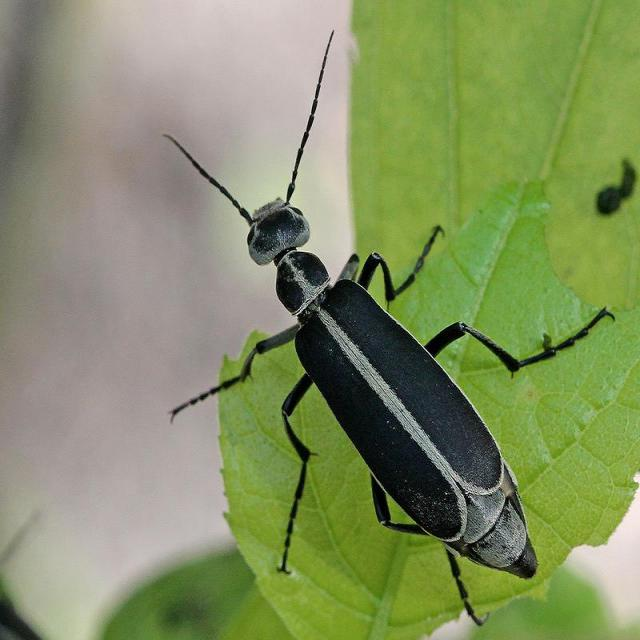BlisterBeetle-Adult-: (159, 28, 611, 579)
